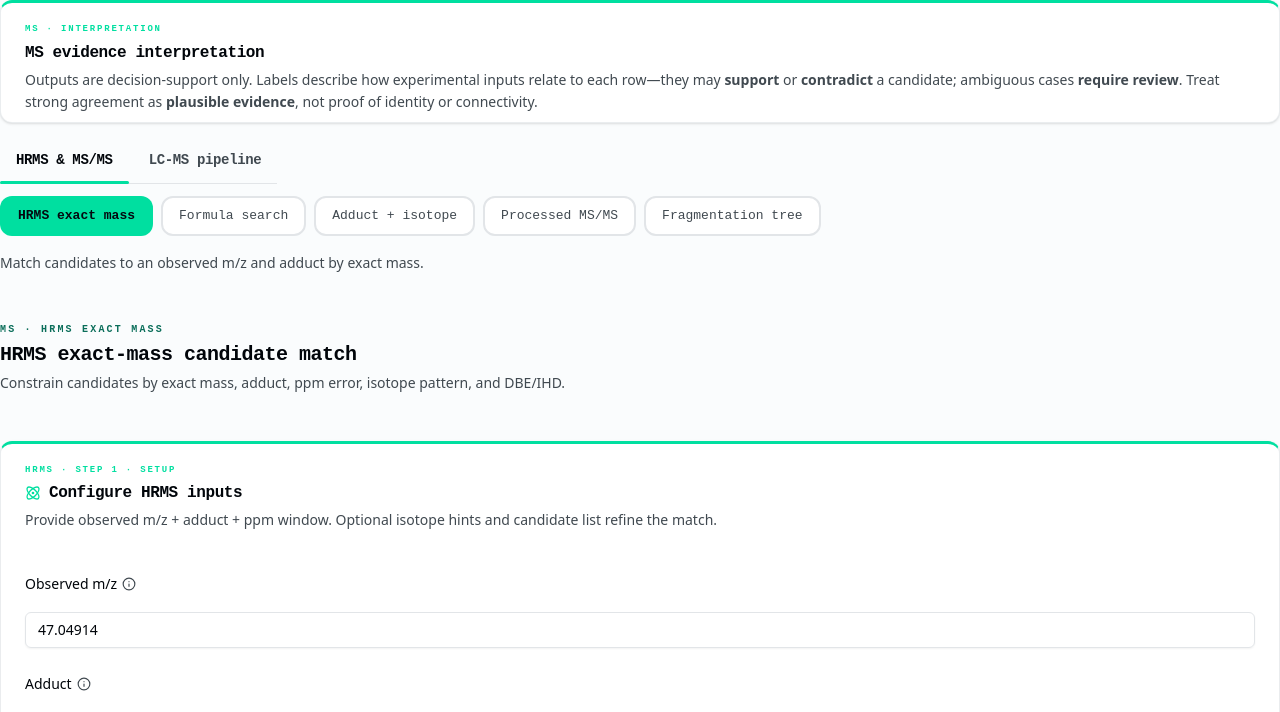
Test: SpectraCheckMsEvidence HRMS & formula › renders fragmentation-tree card and Build fragmentation tree button
Click the tab "Fragmentation tree". click: click(732, 216)
box: [644,196,820,236]
(page scrolled)
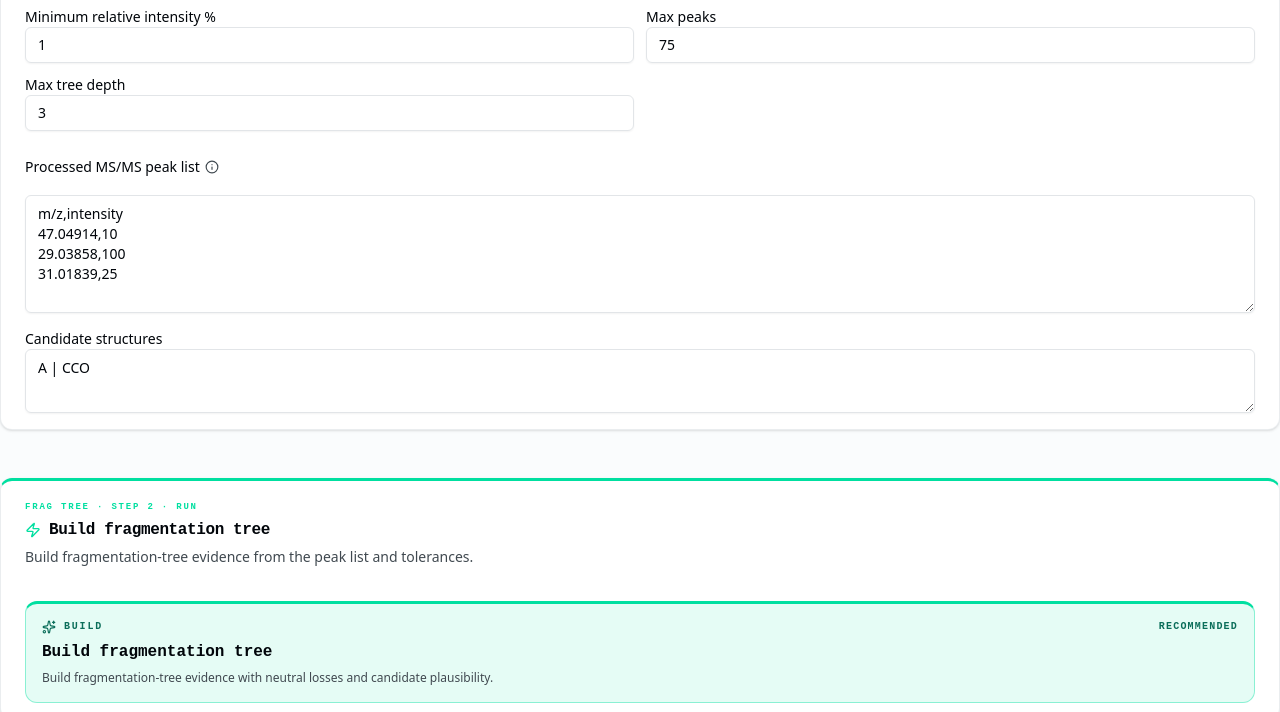
expect the button "Build fragmentation tree" is shown: met, box [25,601,1255,703]
